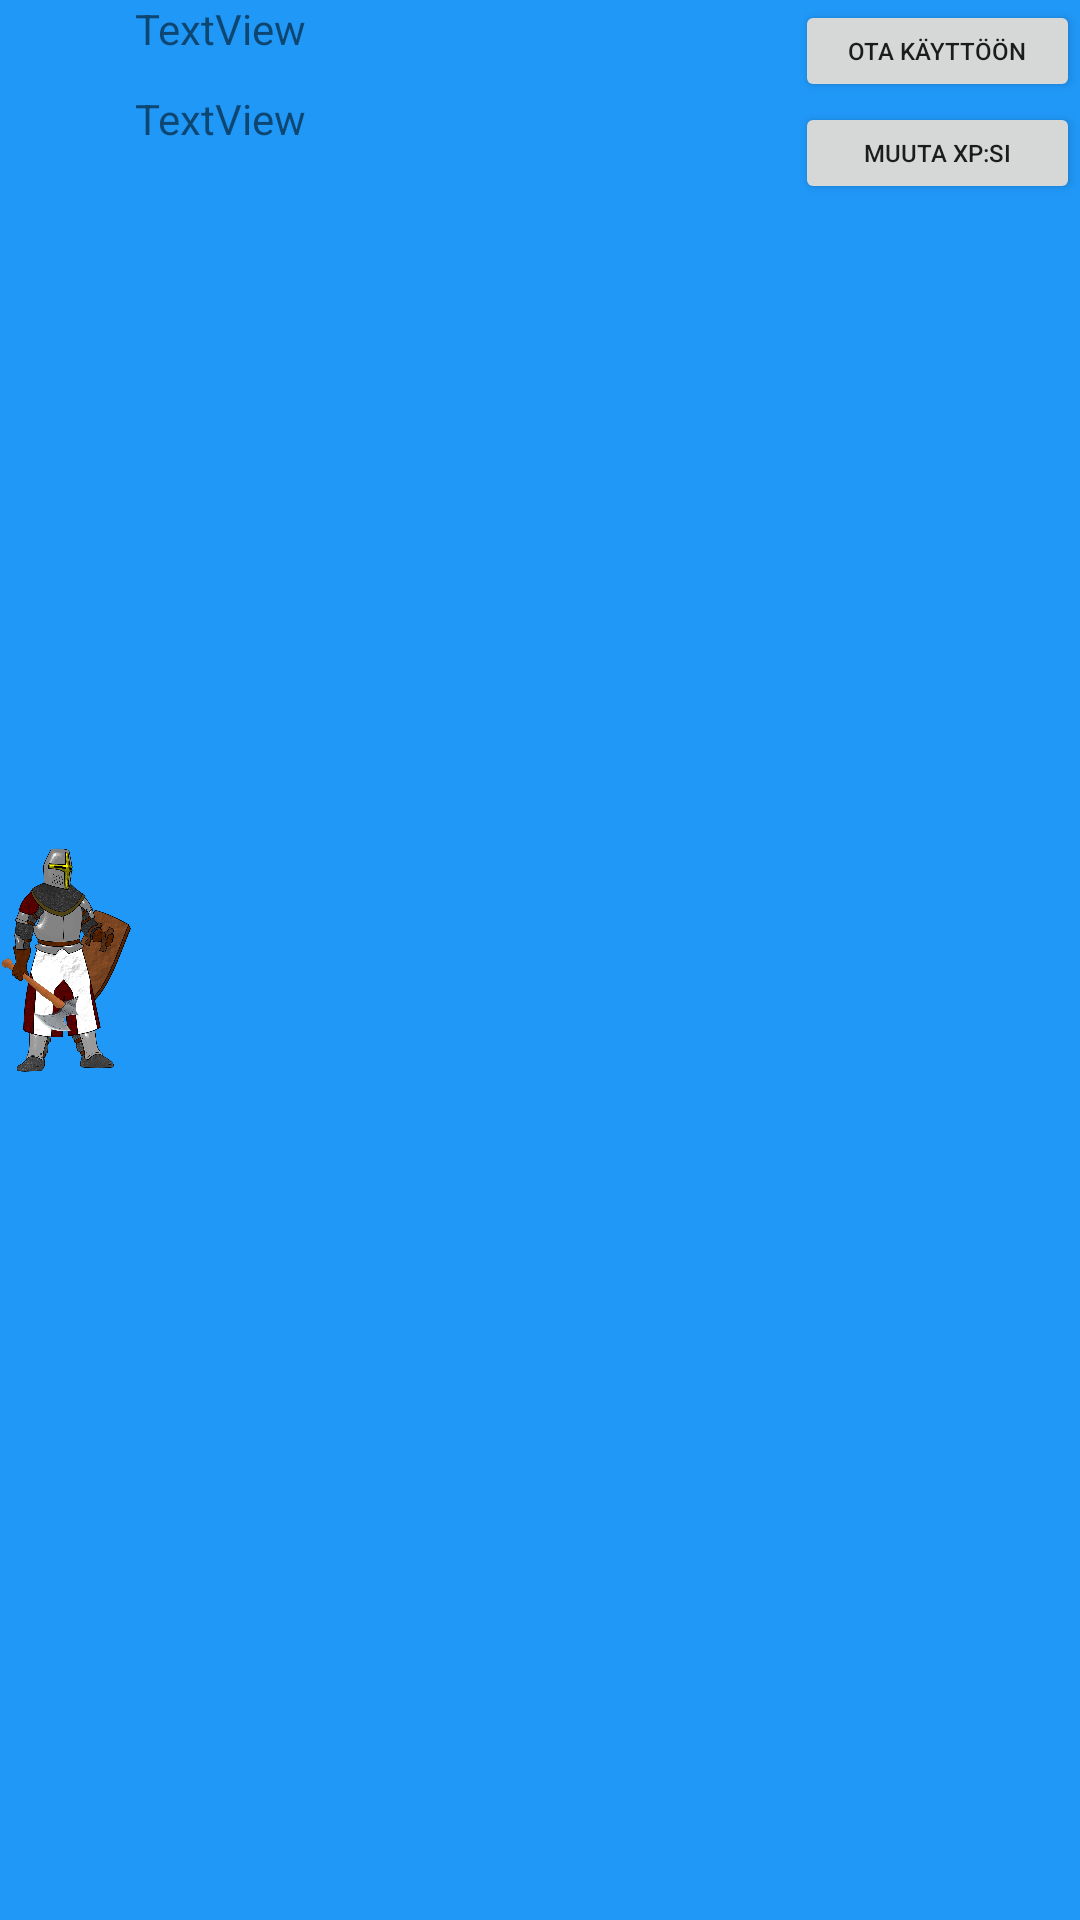

Icon click points for this 1080 x 1920 phone screenshot, format (x,y):
armor: (66,960)
